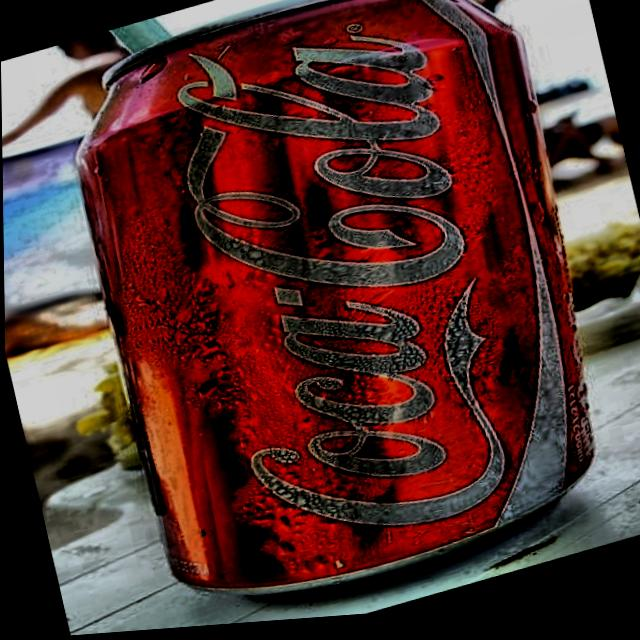Cans: (36, 0, 630, 638)
